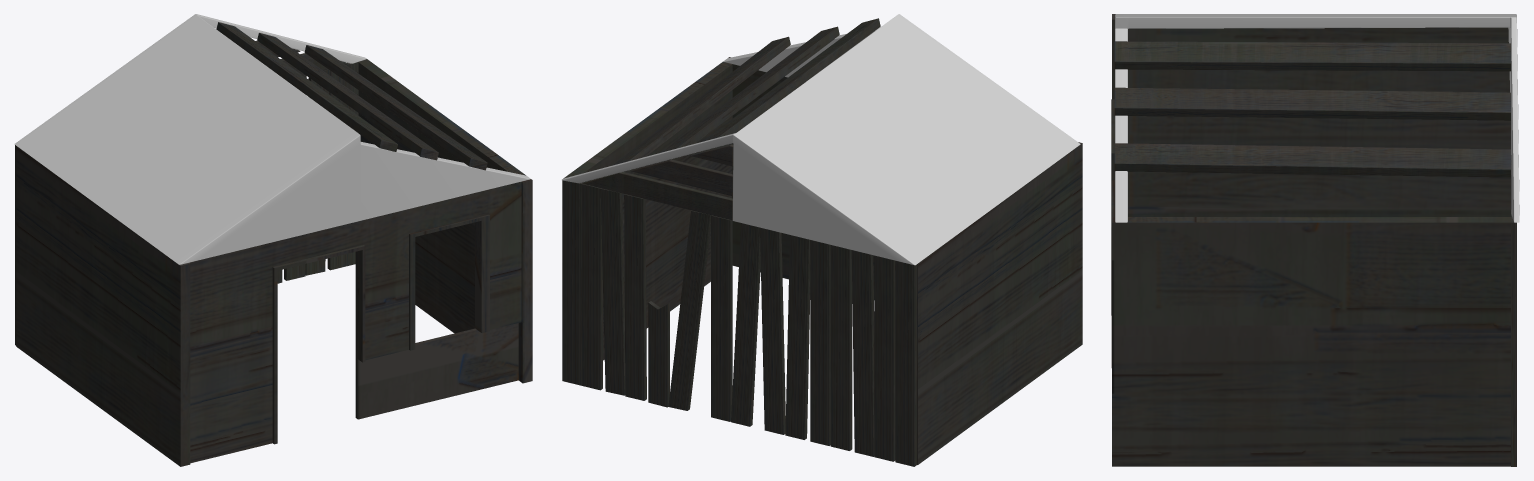
The model's file is Shack.fbx.
3 views of the same model, side by side, from view 1: azimuth 30°, elevation 25°; view 2: azimuth 150°, elevation 25°; view 3: azimuth 270°, elevation 25° (orthographic). The views are drawn at different scales.
Parts seen in each view (by area): view 1: Shack_walls_med_geo, Shack_roof_surface_geo, RoofplanksMED_geo, Shack_wallback_geo1; view 2: Shack_wallback_geo1, Shack_roof_surface_geo, Shack_walls_med_geo, RoofplanksMED_geo; view 3: Shack_walls_med_geo, RoofplanksMED_geo, Shack_roof_surface_geo, Shack_wallback_geo1.
Boxes of the visible parts, x1=… form: Shack_walls_med_geo: x1=16, y1=60, x2=532, y2=466; Shack_roof_surface_geo: x1=14, y1=14, x2=530, y2=264; RoofplanksMED_geo: x1=216, y1=22, x2=487, y2=170; Shack_wallback_geo1: x1=15, y1=59, x2=367, y2=345; Shack_wallback_geo1: x1=562, y1=177, x2=916, y2=466; Shack_roof_surface_geo: x1=562, y1=14, x2=1080, y2=265; Shack_walls_med_geo: x1=565, y1=57, x2=1082, y2=464; RoofplanksMED_geo: x1=582, y1=18, x2=880, y2=220; Shack_walls_med_geo: x1=1111, y1=14, x2=1510, y2=466; RoofplanksMED_geo: x1=1114, y1=41, x2=1511, y2=209; Shack_roof_surface_geo: x1=1115, y1=14, x2=1519, y2=222; Shack_wallback_geo1: x1=1511, y1=210, x2=1516, y2=466.
Size of the model in its own units: 3.78 by 2.95 by 3.13.
